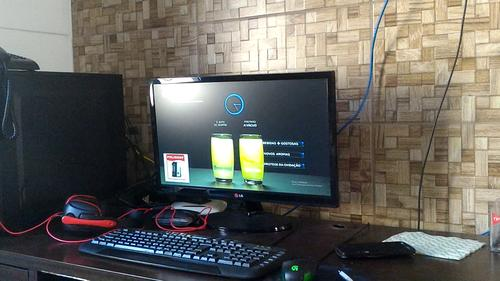Polishop #1: (162, 152, 190, 184)
